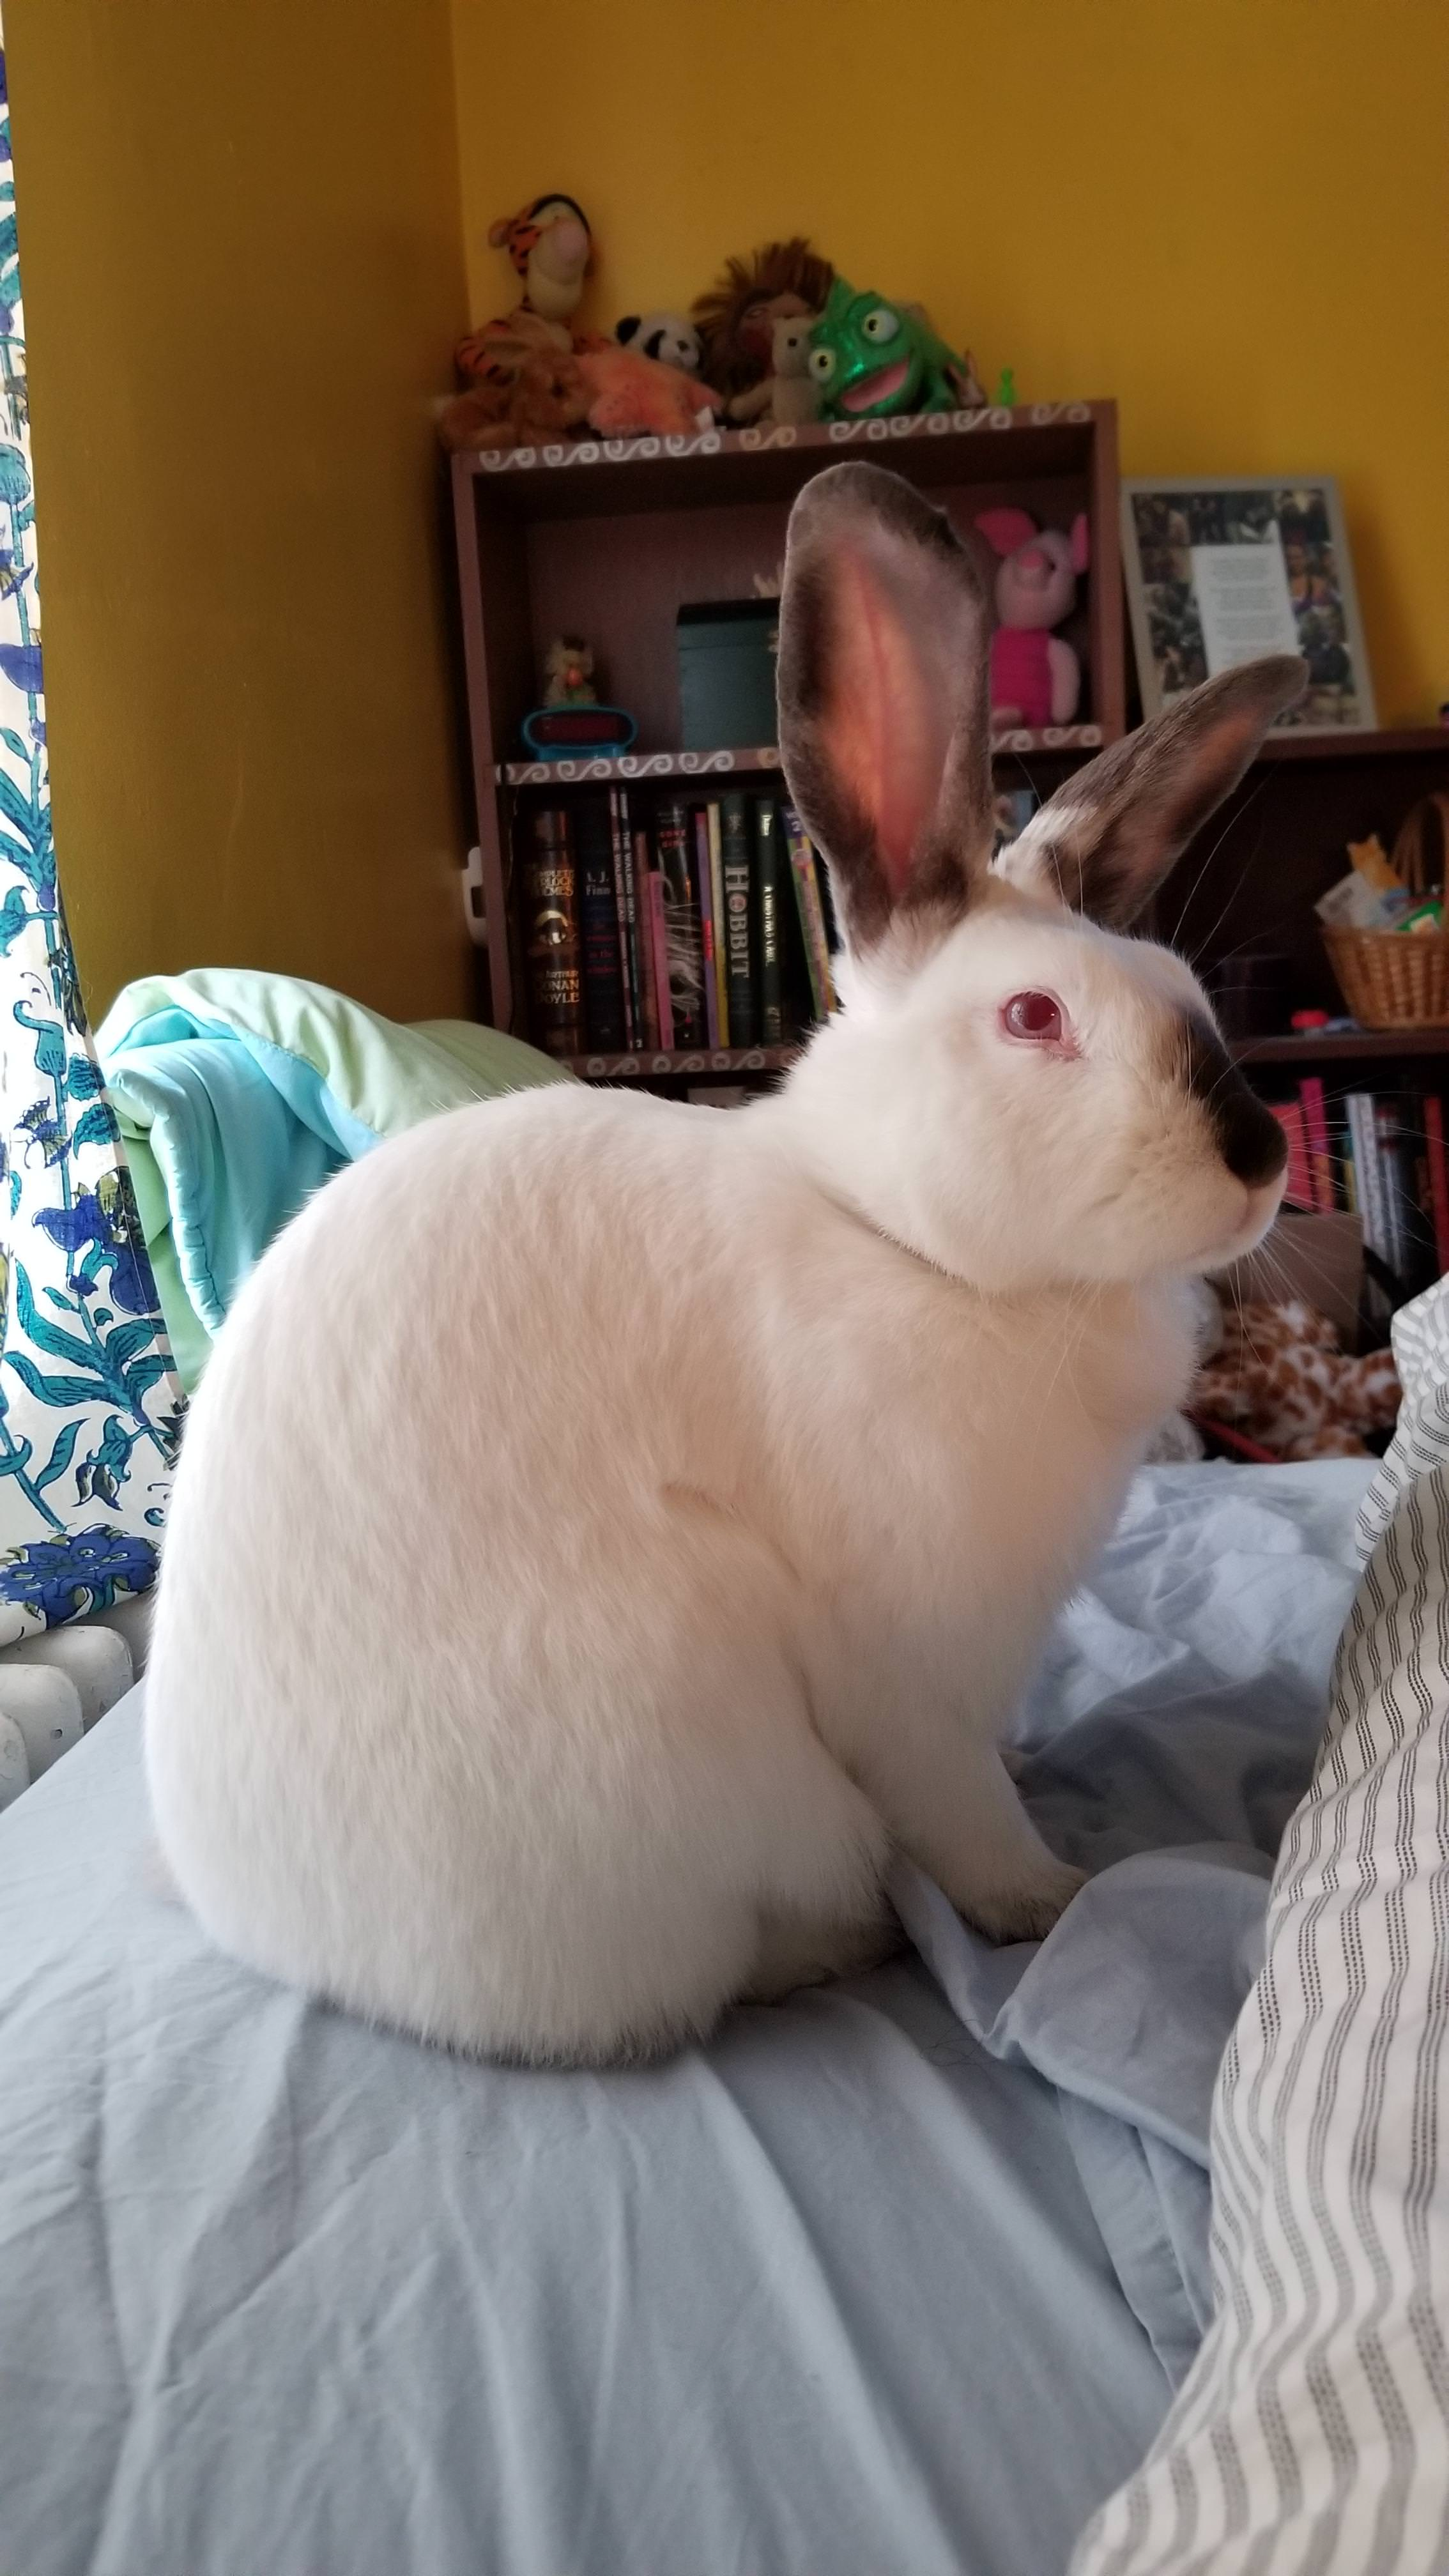bunny: (88, 435, 1316, 2141)
